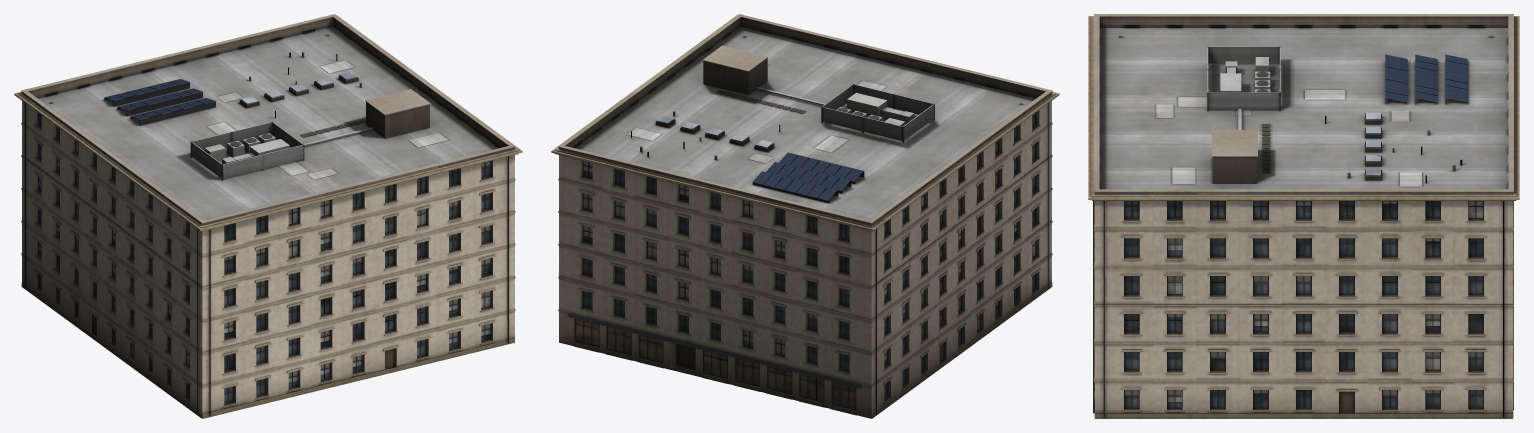
The picture shows the model from 3 angles, left to right: view 1: azimuth 30°, elevation 25°; view 2: azimuth 150°, elevation 25°; view 3: azimuth 270°, elevation 25°; orthographic projection. The views are drawn at different scales.
Parts seen in each view (by area): view 1: building; view 2: building; view 3: building.
Part boxes in pixels (x1,y1,x2,y2): building: (14,14,522,418); building: (551,14,1059,418); building: (1088,14,1519,418).
Bounding box in the file's own units: 33 × 20.58 × 33.
Materials: 1 (1 with a texture image).
